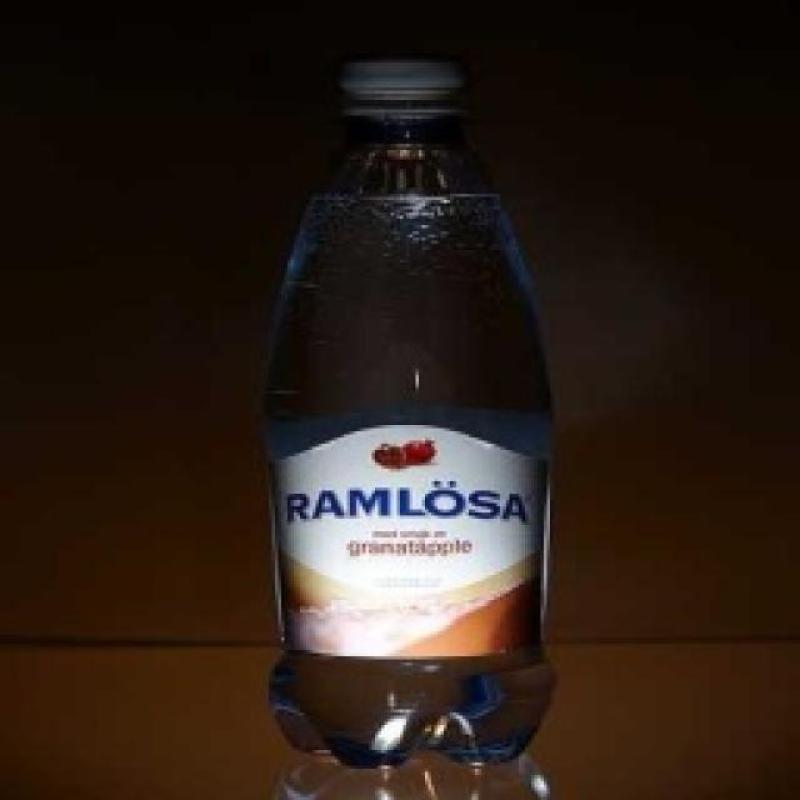botella: (270, 59, 552, 763)
